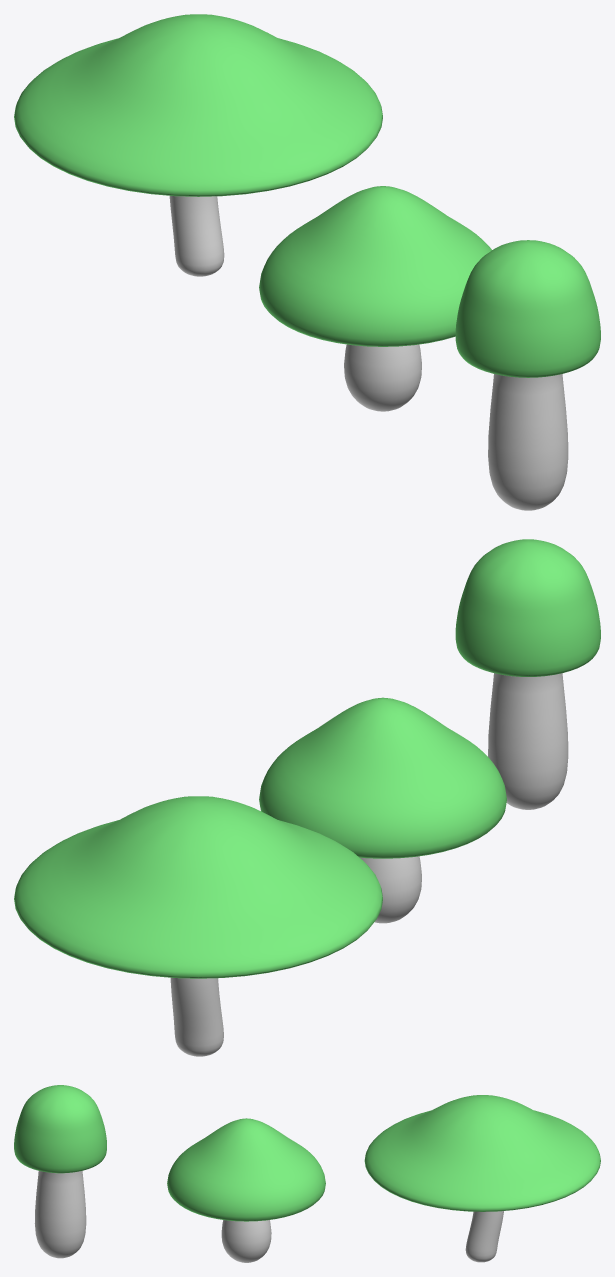
Rendered from Champigons.fbx.
The picture shows the model from 3 angles, top to bottom: view 1: azimuth 30°, elevation 25°; view 2: azimuth 150°, elevation 25°; view 3: azimuth 270°, elevation 25°; orthographic projection. The views are drawn at different scales.
Visible parts, largest first — view 1: Cube.002, Cube, Cube.001; view 2: Cube.002, Cube, Cube.001; view 3: Cube.002, Cube, Cube.001.
Part boxes in pixels (x1,y1,x2,y2): Cube.002: (14,14,382,276); Cube: (259,186,491,411); Cube.001: (455,240,600,510); Cube.002: (14,796,382,1056); Cube: (259,697,506,923); Cube.001: (455,539,600,809); Cube.002: (364,1095,600,1262); Cube: (167,1118,325,1262); Cube.001: (14,1085,106,1258).
Size of the model in its own units: 1266 by 1025 by 3143.
